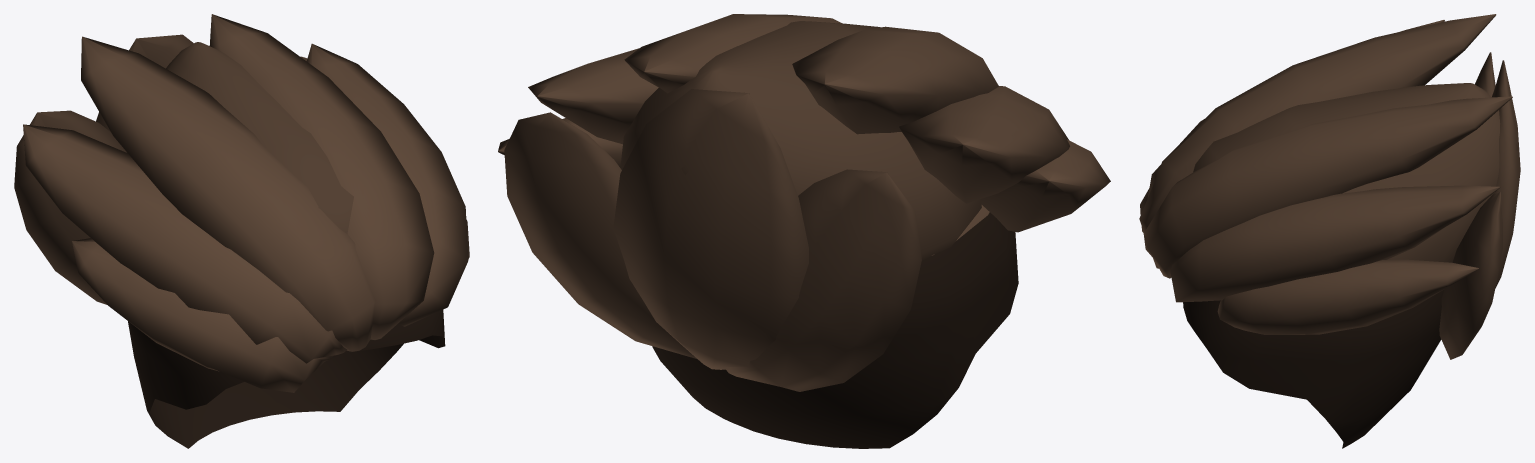
File: hair-volt.glb
The picture shows the model from 3 angles, left to right: view 1: azimuth 30°, elevation 25°; view 2: azimuth 150°, elevation 25°; view 3: azimuth 270°, elevation 25°; orthographic projection. The views are drawn at different scales.
Parts seen in each view (by area): view 1: hair-volt_ref2_hair-volt__head_mesh; view 2: hair-volt_ref2_hair-volt__head_mesh; view 3: hair-volt_ref2_hair-volt__head_mesh.
Boxes of the visible parts, x1,y1,x2,y2 form: hair-volt_ref2_hair-volt__head_mesh: [14, 14, 469, 448]; hair-volt_ref2_hair-volt__head_mesh: [498, 14, 1110, 448]; hair-volt_ref2_hair-volt__head_mesh: [1139, 14, 1520, 448].
Size of the model in its own units: 0.6028 by 0.5165 by 0.5097.
